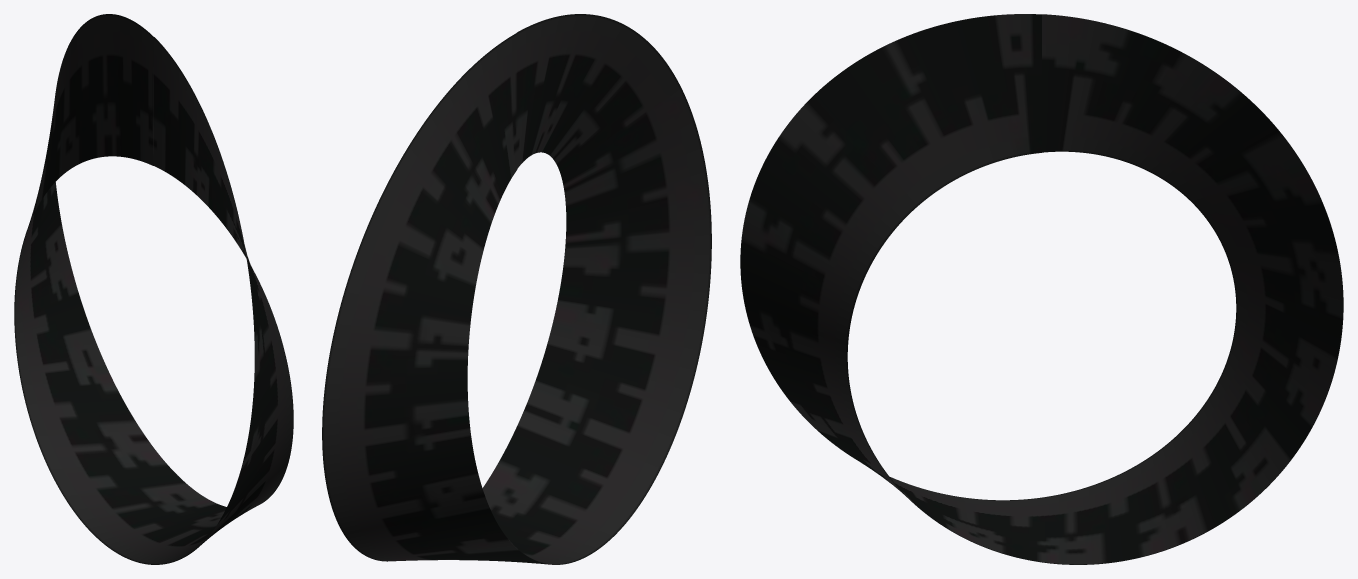
The model's file is mobius_export.glb.
The picture shows the model from 3 angles, left to right: view 1: azimuth 30°, elevation 25°; view 2: azimuth 150°, elevation 25°; view 3: azimuth 270°, elevation 25°; orthographic projection. The views are drawn at different scales.
Parts seen in each view (by area): view 1: Plane; view 2: Plane; view 3: Plane.
Part boxes in pixels (x1,y1,x2,y2): Plane: (14, 14, 293, 564); Plane: (322, 14, 711, 564); Plane: (740, 14, 1343, 564).
Bounding box in the file's own units: 0.0296 × 0.1109 × 0.117.
Materials: 1 (1 with a texture image).
